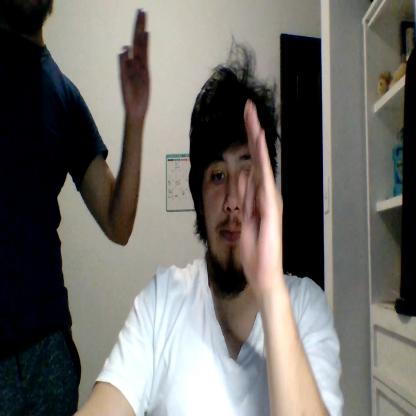F: (238, 99, 282, 293), (118, 8, 150, 120)
